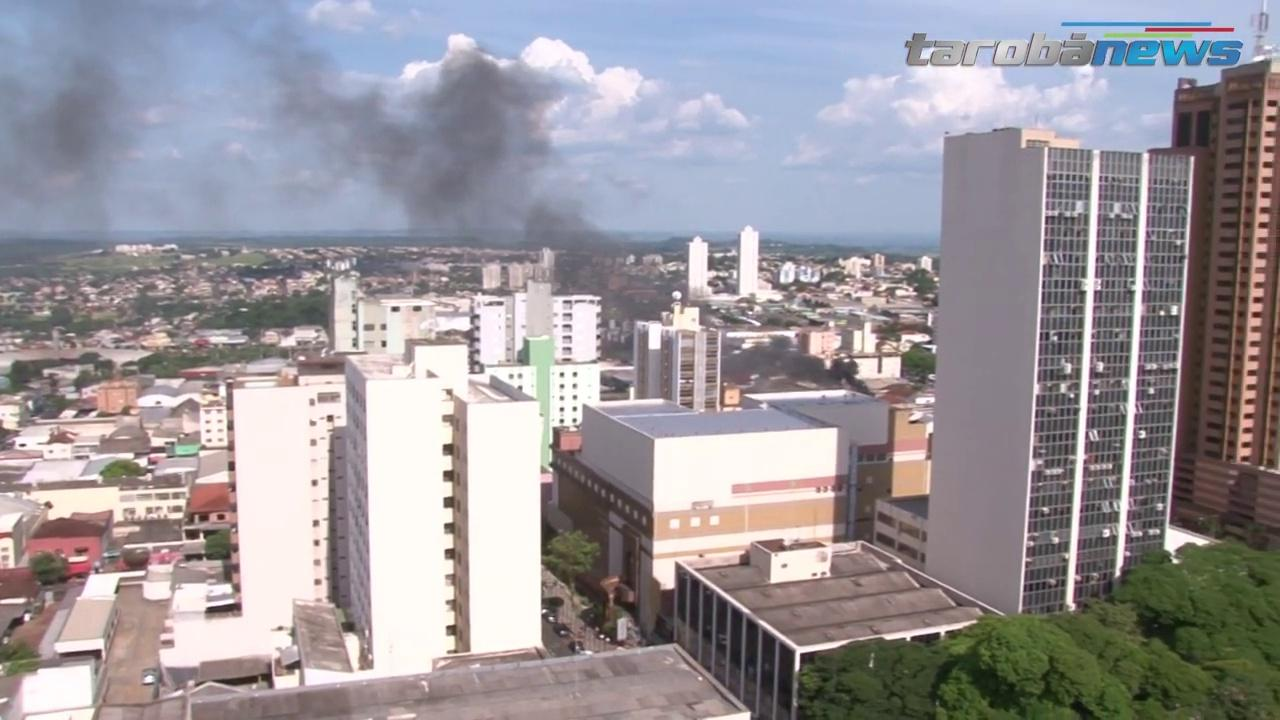smoke: (422, 80, 522, 230)
